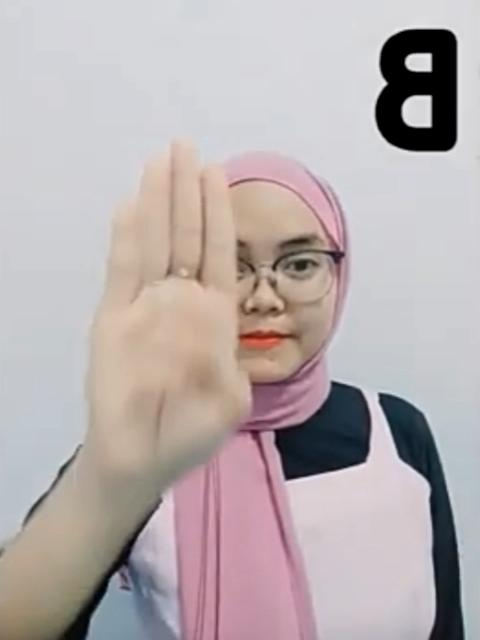B: (83, 135, 252, 481)
